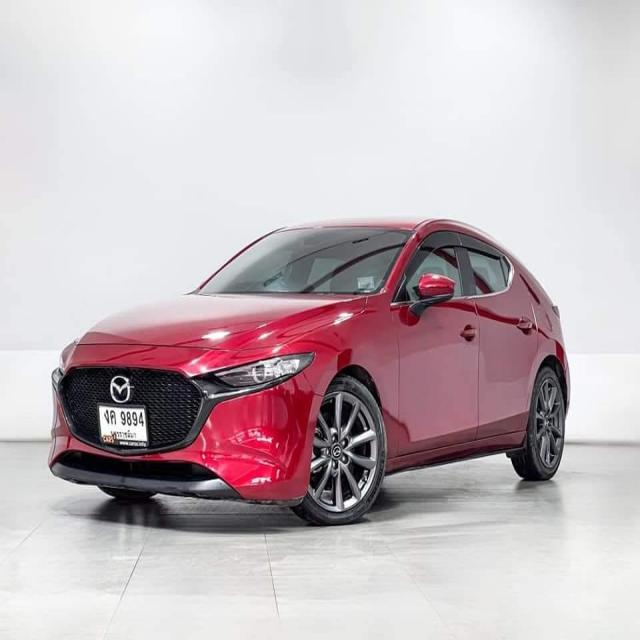Hatchback: (47, 218, 571, 528)
